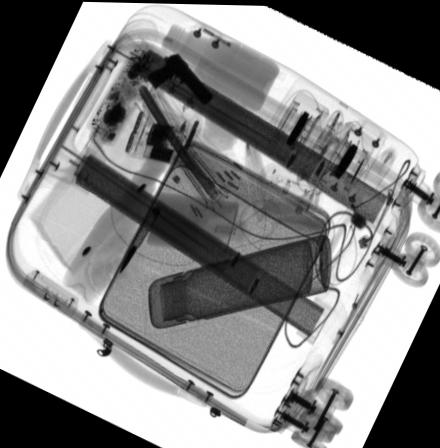Bullet: (118, 204, 160, 272)
Gun: (147, 51, 214, 104)
